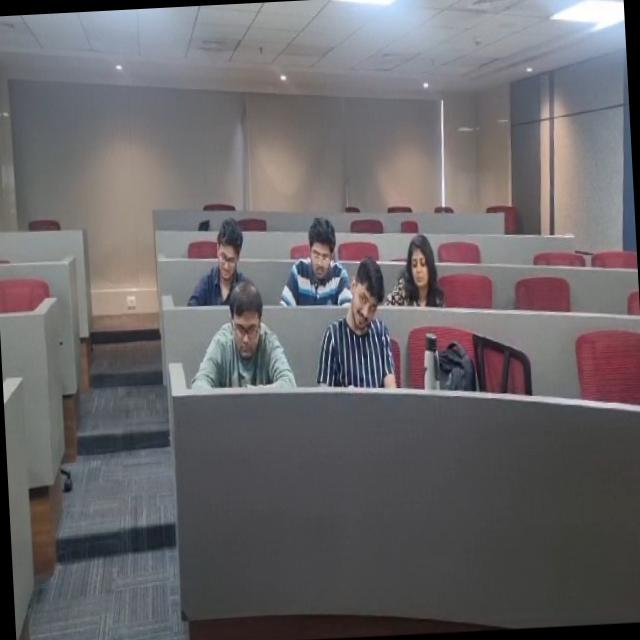cheating: (342, 255, 402, 398)
non-cheating: (205, 266, 293, 404), (278, 210, 358, 316), (188, 210, 252, 294), (390, 226, 448, 312)
